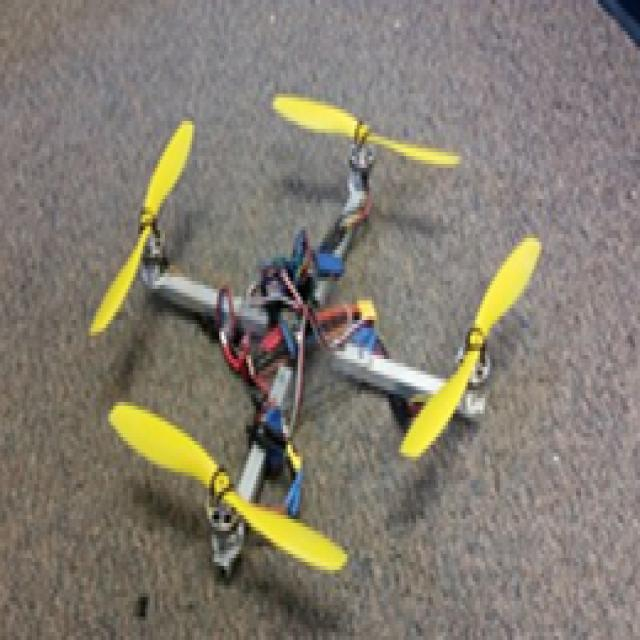drone: (71, 64, 524, 586)
